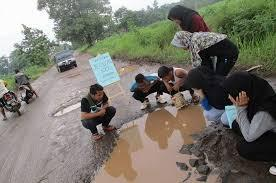Pothole: (95, 109, 254, 183), (91, 56, 141, 78), (44, 93, 84, 118), (56, 70, 80, 80)
